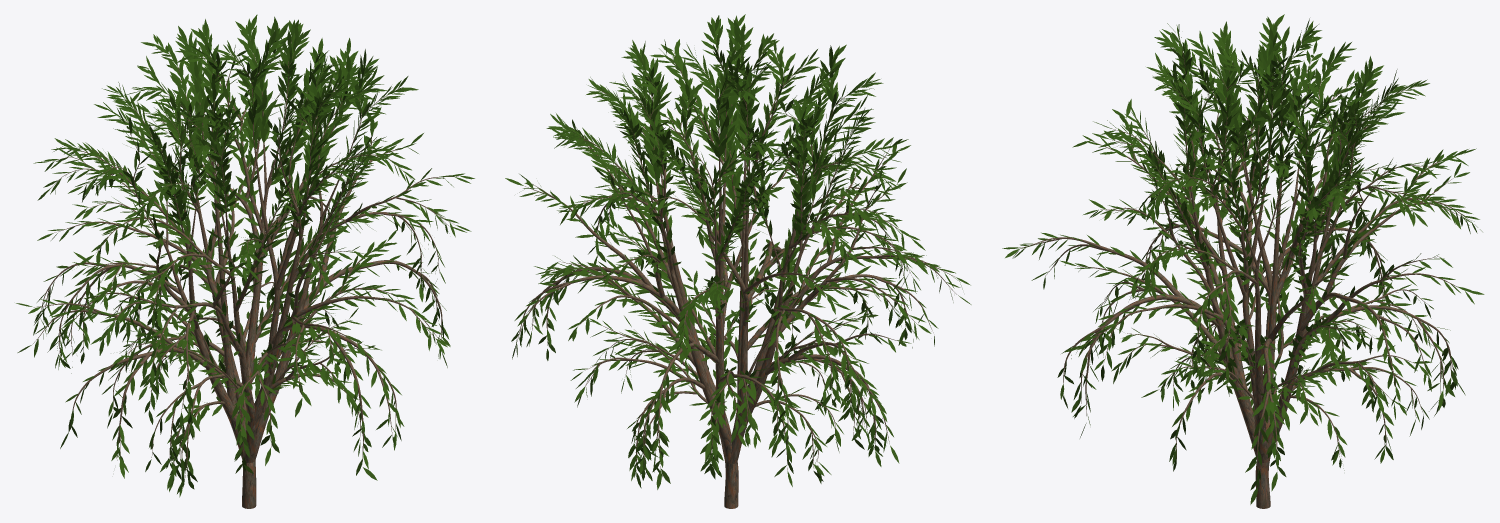
Rendered from Medium bush.fbx.
3 renders of one model, left to right at view 1: azimuth 30°, elevation 25°; view 2: azimuth 150°, elevation 25°; view 3: azimuth 270°, elevation 25°, orthographic. The views are drawn at different scales.
Visible parts, largest first — view 1: leaves.004, tree.004; view 2: leaves.004, tree.004; view 3: leaves.004, tree.004.
Part boxes in pixels (x1=…): leaves.004: x1=16, y1=14, x2=474, y2=497; tree.004: x1=32, y1=40, x2=458, y2=508; leaves.004: x1=505, y1=14, x2=971, y2=489; tree.004: x1=517, y1=31, x2=956, y2=508; leaves.004: x1=1002, y1=14, x2=1484, y2=504; tree.004: x1=1020, y1=35, x2=1468, y2=508.
Size of the model in its own units: 887 by 983 by 901.
2 materials, 1 textured.
